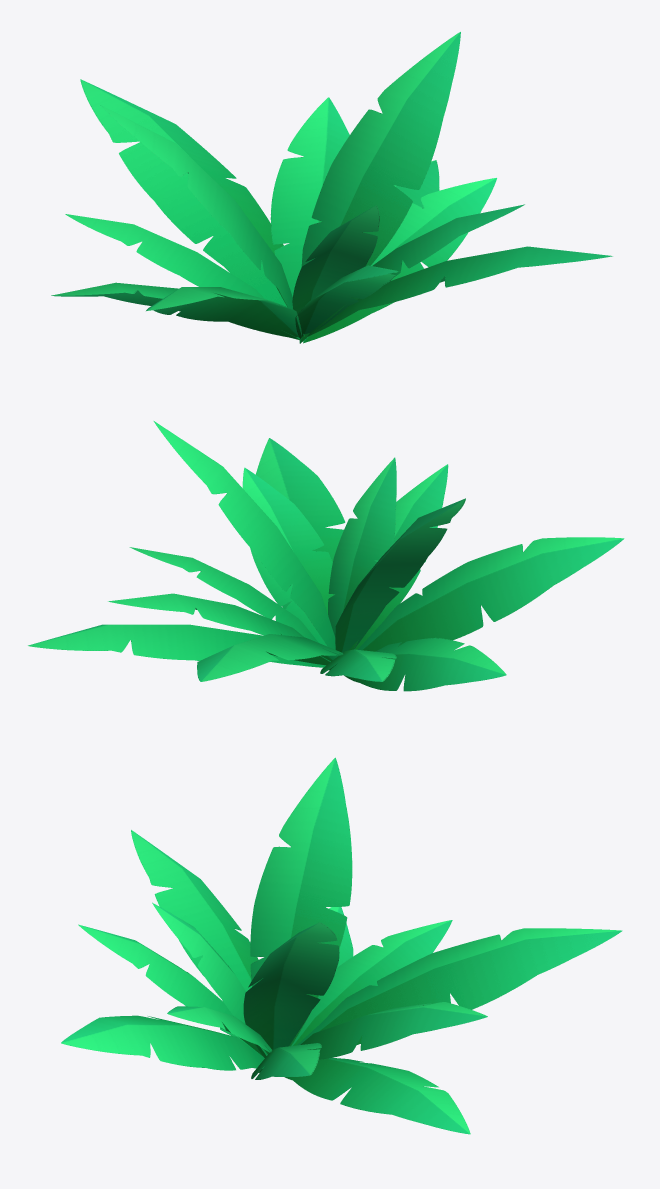
File: Leaf_Tall_Green.fbx
3 renders of one model, top to bottom at view 1: azimuth 30°, elevation 25°; view 2: azimuth 150°, elevation 25°; view 3: azimuth 270°, elevation 25°, orthographic. The views are drawn at different scales.
Visible parts, largest first — view 1: Leaf_Tall_Green; view 2: Leaf_Tall_Green; view 3: Leaf_Tall_Green.
Part boxes in pixels (x1,y1,x2,y2): Leaf_Tall_Green: (51, 32, 612, 343); Leaf_Tall_Green: (28, 421, 624, 691); Leaf_Tall_Green: (61, 757, 622, 1134).
Size of the model in its own units: 92.35 by 47.16 by 99.73.
